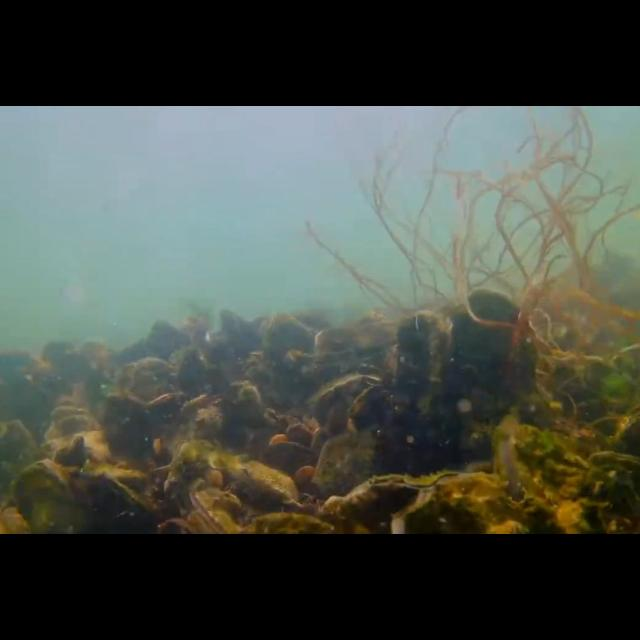Oyster-Closed: (88, 474, 164, 534), (170, 440, 227, 514), (189, 493, 245, 535)
Oyster-Indeterminate: (448, 286, 538, 416), (387, 309, 451, 416), (12, 459, 82, 535), (313, 432, 382, 500), (103, 391, 151, 465), (0, 419, 42, 493), (242, 462, 302, 508), (175, 394, 227, 438), (66, 438, 92, 468)
Oyster-Open: (494, 421, 640, 535), (311, 374, 383, 434)
